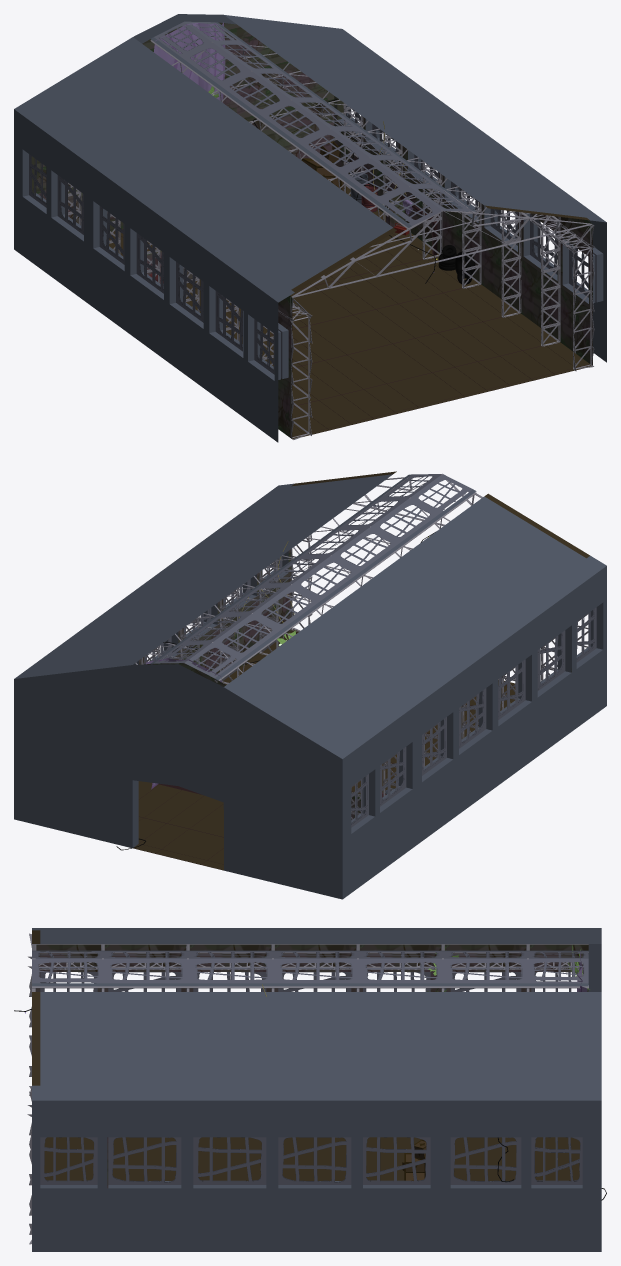
File: GalpãoFudido.fbx
The picture shows the model from 3 angles, top to bottom: view 1: azimuth 30°, elevation 25°; view 2: azimuth 150°, elevation 25°; view 3: azimuth 270°, elevation 25°; orthographic projection. The views are drawn at different scales.
Visible parts, largest first — view 1: Galpa~o, Chão, Metalica, LonaFudida, Grupo de Pneus, Grupo de Cubos.001; view 2: Galpa~o, Chão, Metalica; view 3: Galpa~o, Chão, Metalica, Grupo de Cubos.
Boxes of the visible parts, x1,y1,x2,y2 form: Galpa~o: (14,14,606,442); Chão: (109,186,591,438); Metalica: (68,27,594,439); LonaFudida: (154,22,225,102); Grupo de Pneus: (438,245,475,284); Grupo de Cubos.001: (301,141,346,192); Galpa~o: (14,471,606,899); Chão: (133,629,515,870); Metalica: (135,473,588,819); Galpa~o: (32,928,601,1251); Chão: (44,1137,580,1180); Metalica: (27,933,588,1244); Grupo de Cubos: (402,1139,426,1180).
Size of the model in its own units: 4807 by 2786 by 6975.
Materials: 30 (5 with a texture image).
